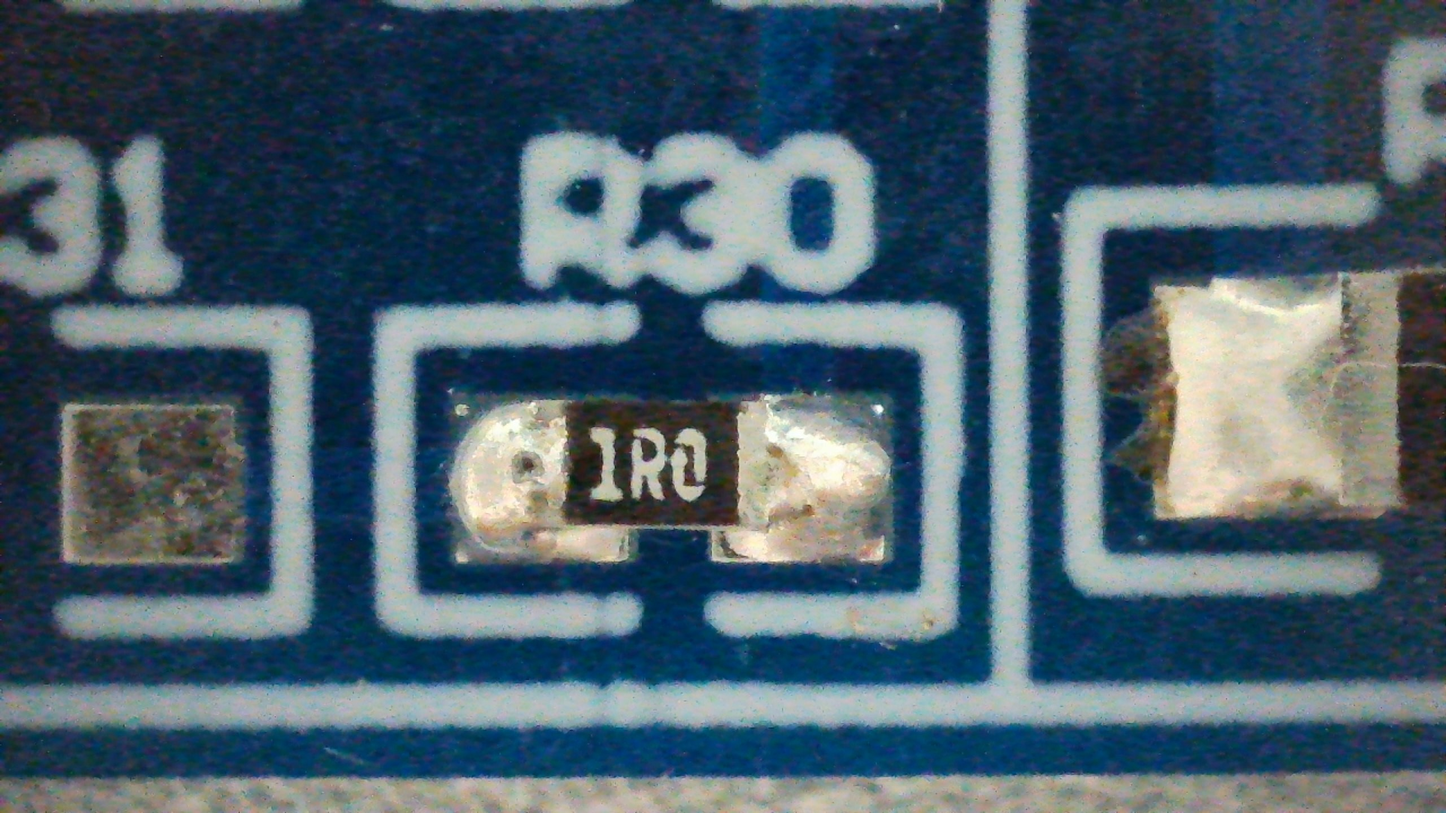OK: (455, 399, 887, 563)
